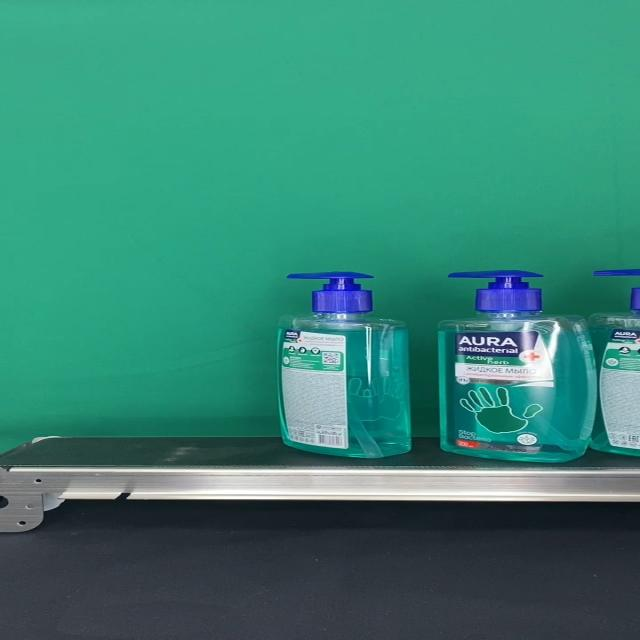Bottle: (439, 272, 598, 462), (277, 271, 411, 458)
Cap: (444, 271, 543, 313), (286, 270, 374, 312)
